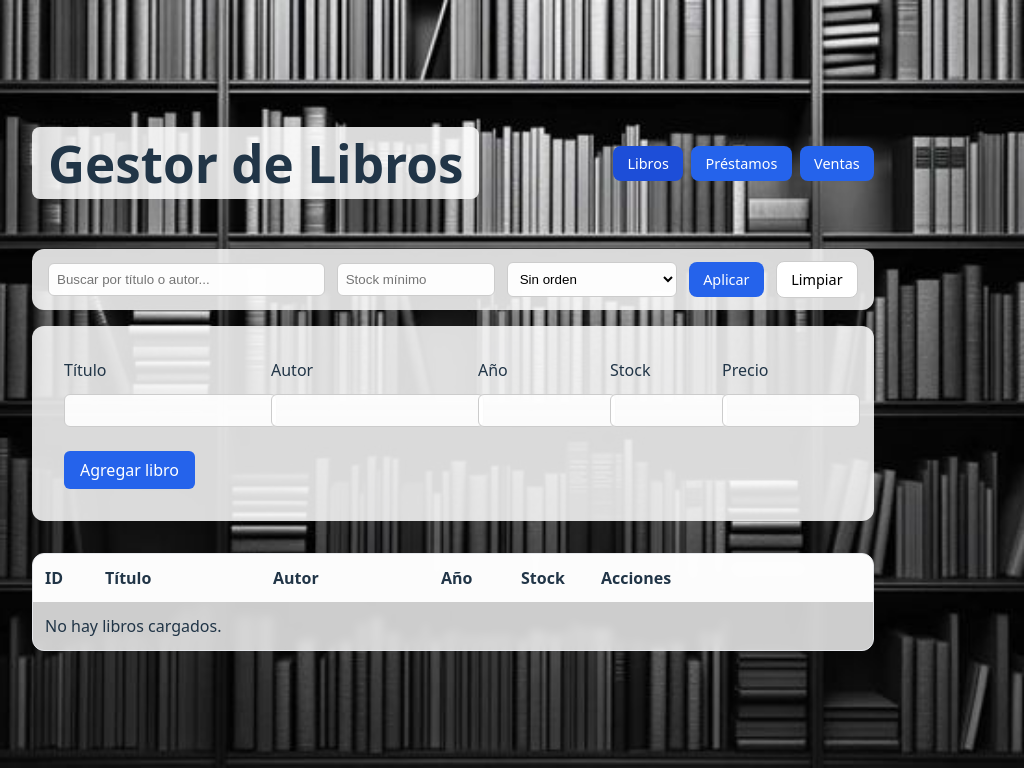
Test: App flows › crea libro con formulario
Check: the text "No hay libros cargados." is shown, box [45,616,222,638]
Type "Libro X" into the field labelled "Título".
click(170, 411); type("Libro X")  # box [64,394,277,428]
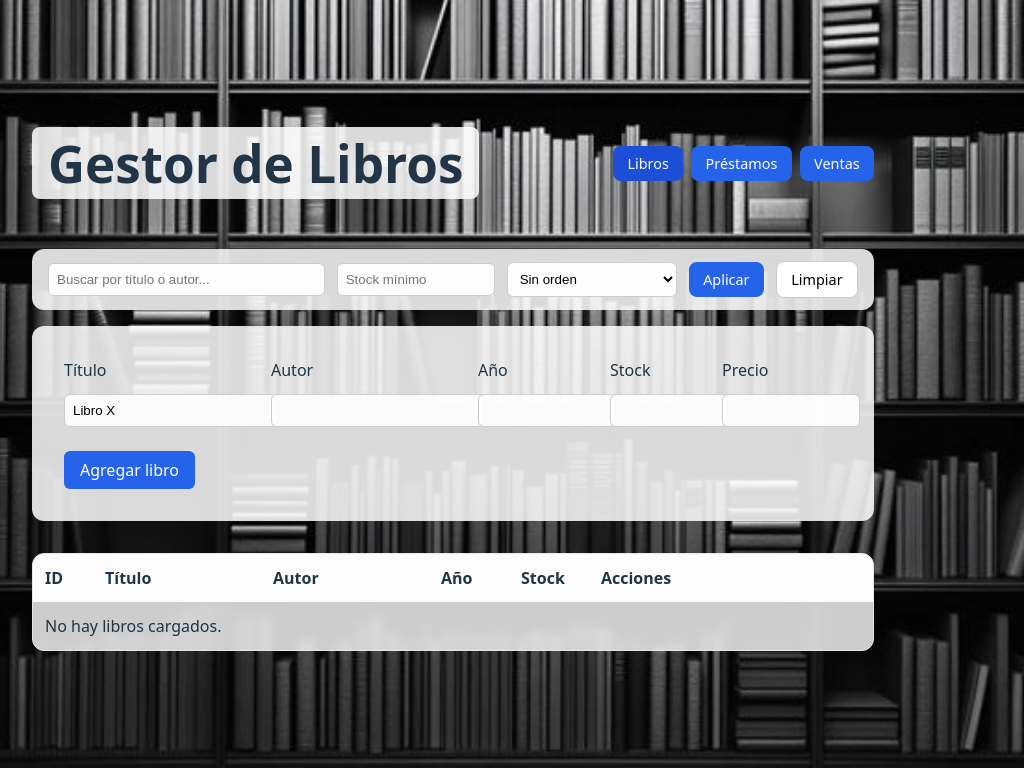
Type "Autora" into the field labelled "Autor".
click(378, 411); type("Autora")  # box [271,394,484,428]
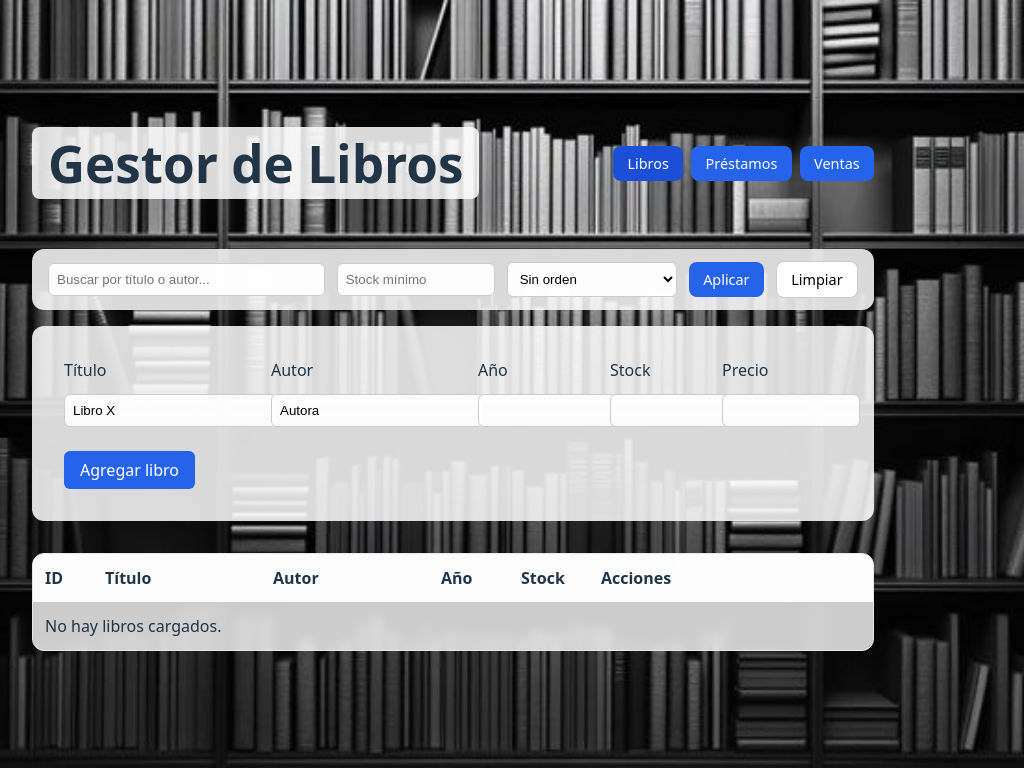
Type "2024" into the number field labelled "Año".
click(547, 411); type("2024")  # box [478,394,616,428]
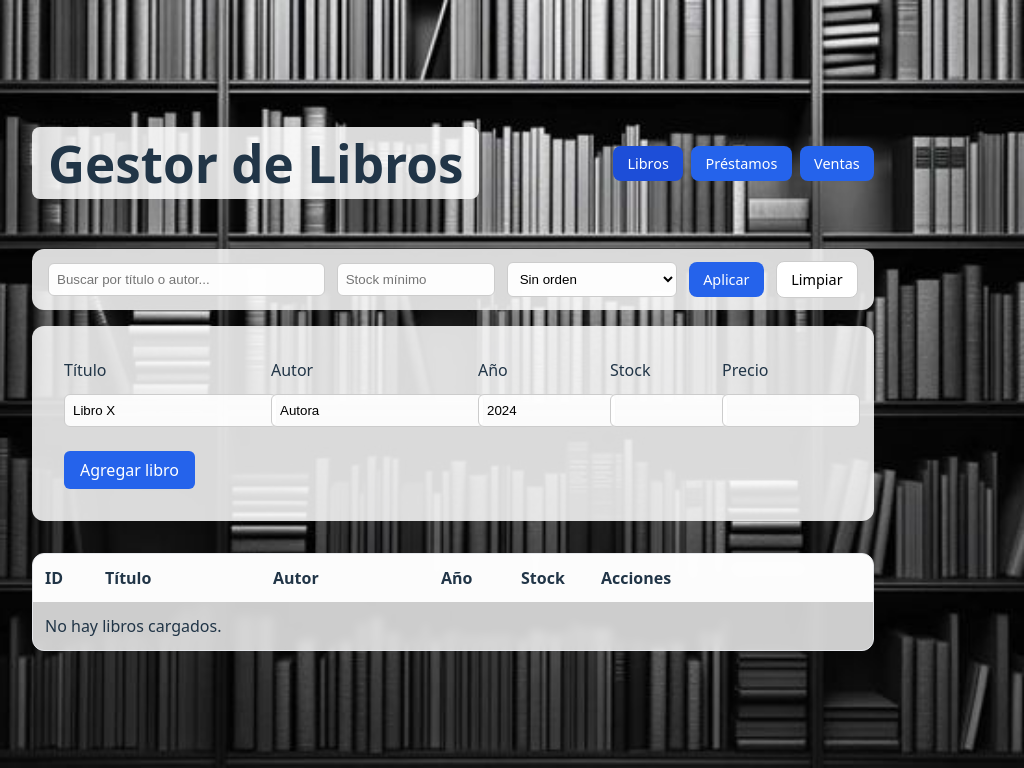
Click the button "Agregar libro".
click(130, 470)  # box [64,452,195,490]
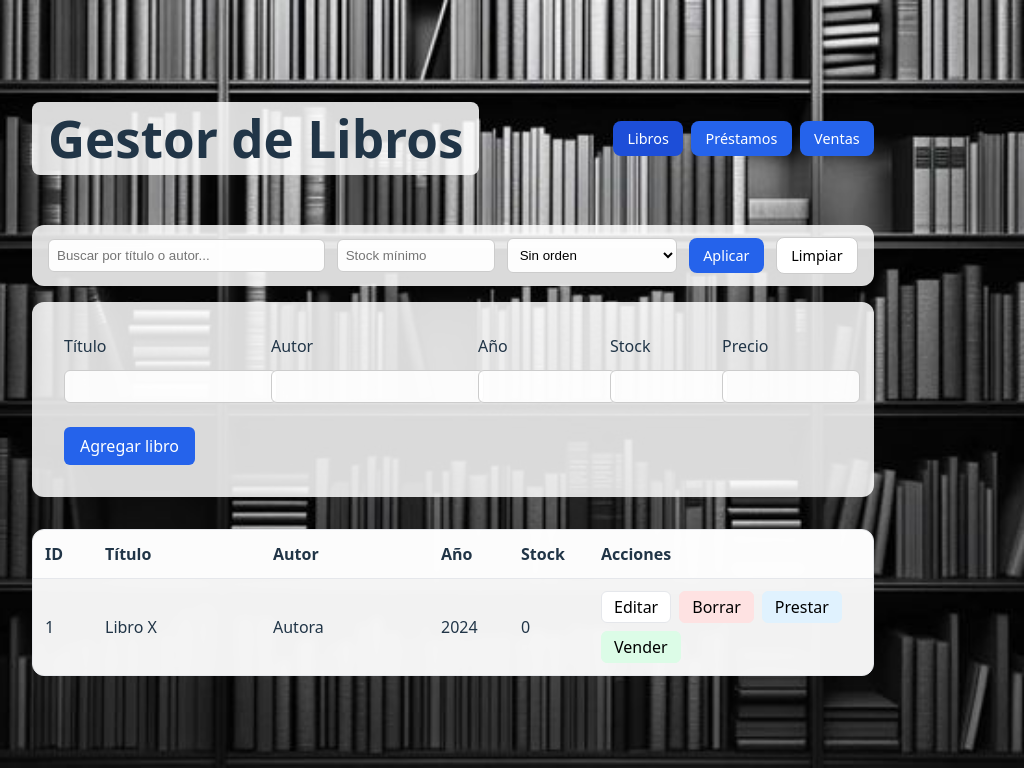
Check: the text "Libro X" is shown, box [105,616,157,638]
